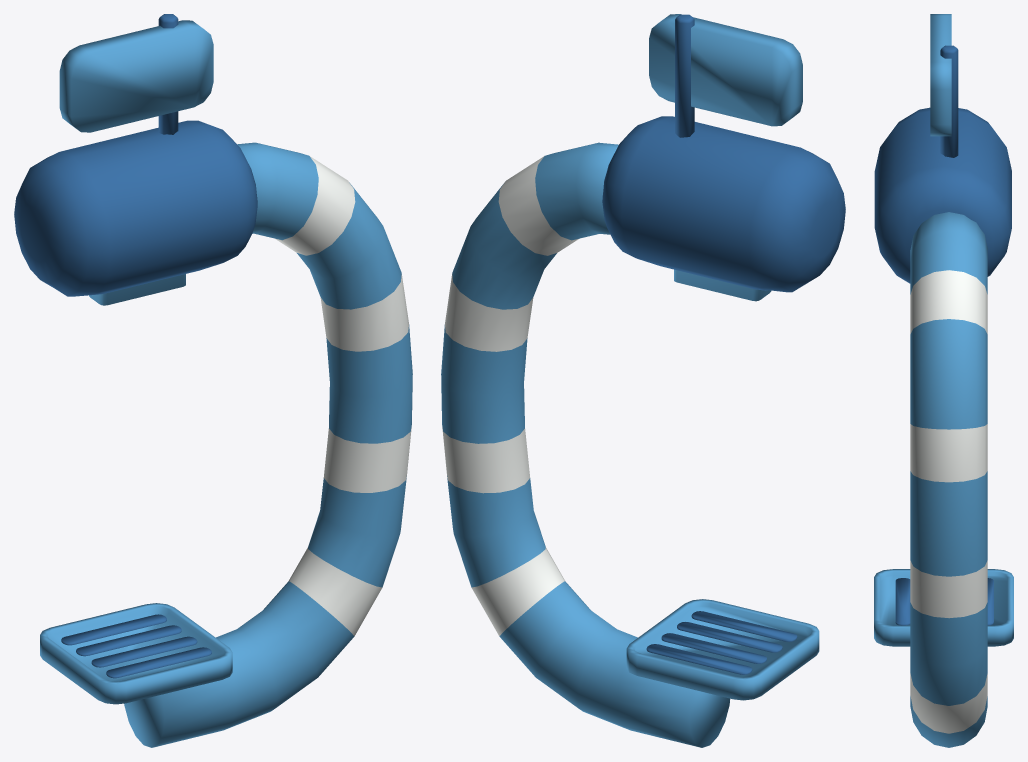
Rendered from Long Machine2.fbx.
3 views of the same model, side by side, from view 1: azimuth 30°, elevation 25°; view 2: azimuth 150°, elevation 25°; view 3: azimuth 270°, elevation 25° (orthographic). The views are drawn at different scales.
Parts seen in each view (by area): view 1: Cylinder.057, Cylinder.058, Cube.213, Cube.189, Cube.190, Cube.192, Cube.193, Cube.191, Cylinder.059; view 2: Cylinder.057, Cylinder.058, Cube.213, Cube.189, Cylinder.059, Cube.192, Cube.193, Cube.190, Cube.191; view 3: Cylinder.057, Cylinder.058, Cube.189, Cube.213, Cylinder.059, Cube.193, Cube.192.
Part boxes in pixels (x1=…): Cylinder.057: x1=124, y1=142, x2=412, y2=747; Cylinder.058: x1=14, y1=120, x2=257, y2=305; Cube.213: x1=59, y1=20, x2=213, y2=132; Cube.189: x1=40, y1=603, x2=232, y2=704; Cube.190: x1=91, y1=636, x2=197, y2=667; Cube.192: x1=61, y1=614, x2=166, y2=645; Cube.193: x1=106, y1=647, x2=211, y2=678; Cube.191: x1=76, y1=625, x2=181, y2=656; Cylinder.059: x1=158, y1=14, x2=178, y2=134; Cylinder.057: x1=441, y1=142, x2=730, y2=747; Cylinder.058: x1=602, y1=116, x2=845, y2=301; Cube.213: x1=649, y1=14, x2=802, y2=126; Cube.189: x1=626, y1=599, x2=819, y2=700; Cylinder.059: x1=675, y1=14, x2=694, y2=137; Cube.192: x1=646, y1=644, x2=752, y2=674; Cube.193: x1=691, y1=611, x2=797, y2=641; Cube.190: x1=677, y1=622, x2=782, y2=652; Cube.191: x1=661, y1=633, x2=766, y2=663; Cylinder.057: x1=910, y1=212, x2=987, y2=747; Cylinder.058: x1=874, y1=107, x2=1011, y2=283; Cube.189: x1=874, y1=569, x2=1013, y2=646; Cube.213: x1=930, y1=14, x2=951, y2=136; Cylinder.059: x1=940, y1=45, x2=958, y2=157; Cube.193: x1=895, y1=578, x2=910, y2=625; Cube.192: x1=987, y1=578, x2=993, y2=625.
Size of the model in its own units: 133 by 244 by 46.56.
